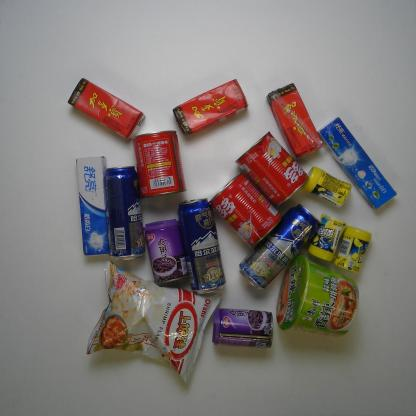Alcohol: (240, 204, 322, 293), (176, 198, 227, 296), (102, 168, 146, 261)
Canned Food: (208, 172, 281, 248), (236, 132, 308, 207), (130, 129, 188, 199), (143, 216, 187, 286), (211, 304, 276, 350)
Drink: (68, 79, 144, 139), (266, 83, 324, 159), (172, 78, 248, 132)
Gum: (305, 166, 351, 207), (332, 226, 372, 272), (309, 214, 346, 262)
Instant Noodles: (276, 259, 363, 337)
Personal Hygiene: (318, 115, 398, 212), (74, 155, 113, 257)
Puffed Food: (86, 260, 218, 380)
